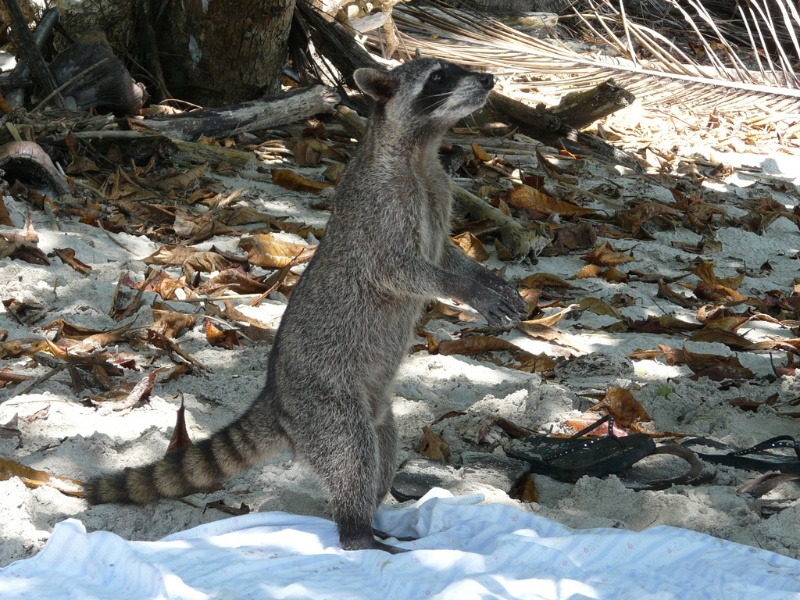raccoon: (83, 55, 515, 563)
